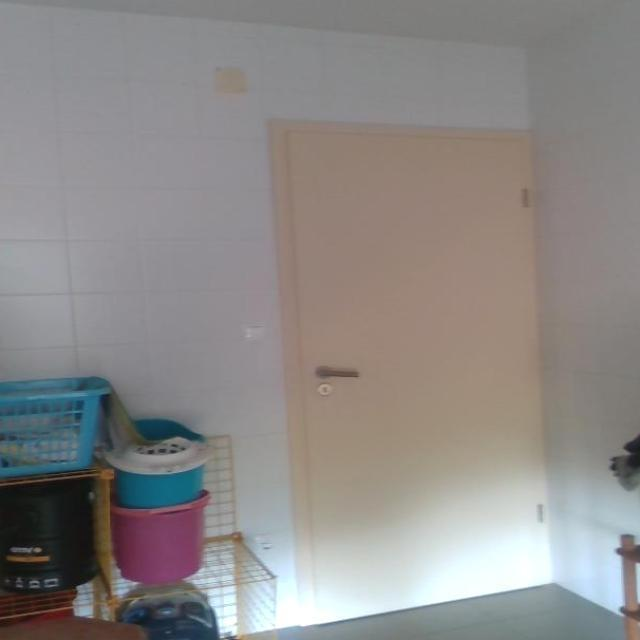door: (270, 118, 552, 624)
